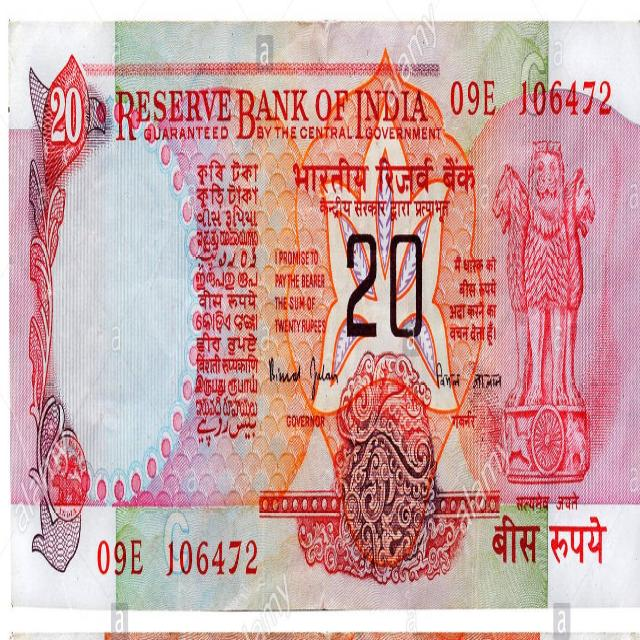20rs: (5, 14, 639, 632)
